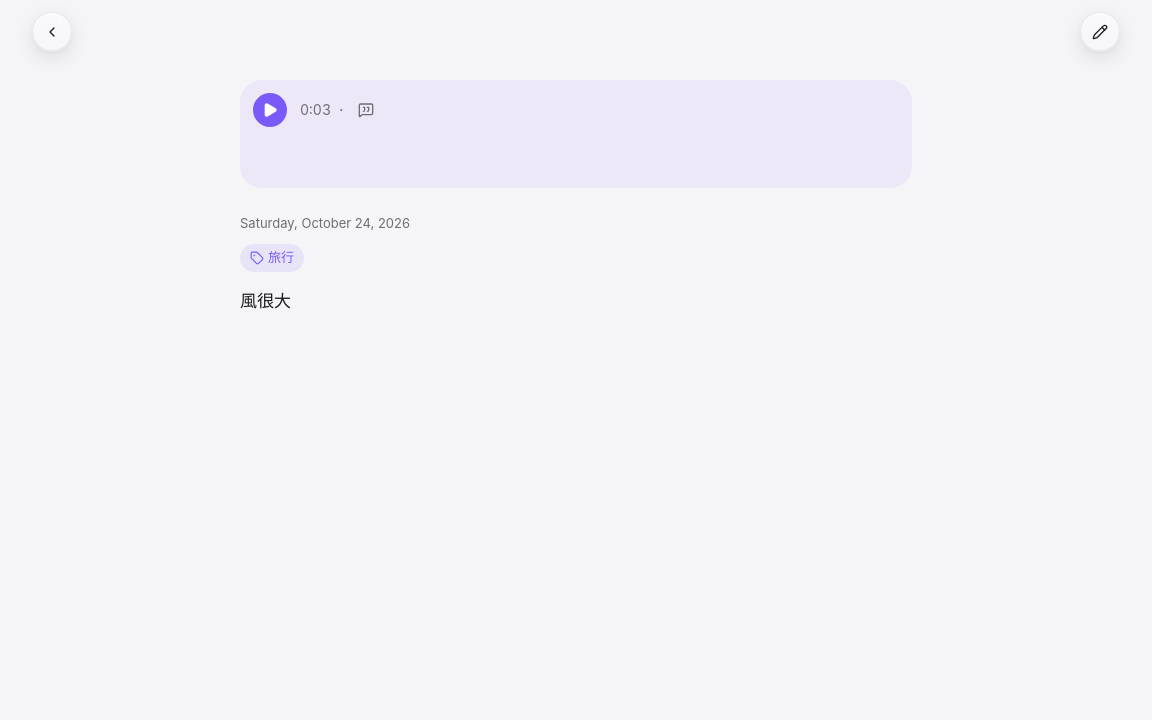
Test: a saved entry opens to read, with nothing to change until Edit
The image size is (1152, 720).
Expected: the text "風很大" is shown, [240, 290, 291, 310]
Expected: the list item "旅行" is shown, [240, 244, 304, 272]
Click the button named "Edit" at (1100, 32), box [1080, 12, 1120, 52]
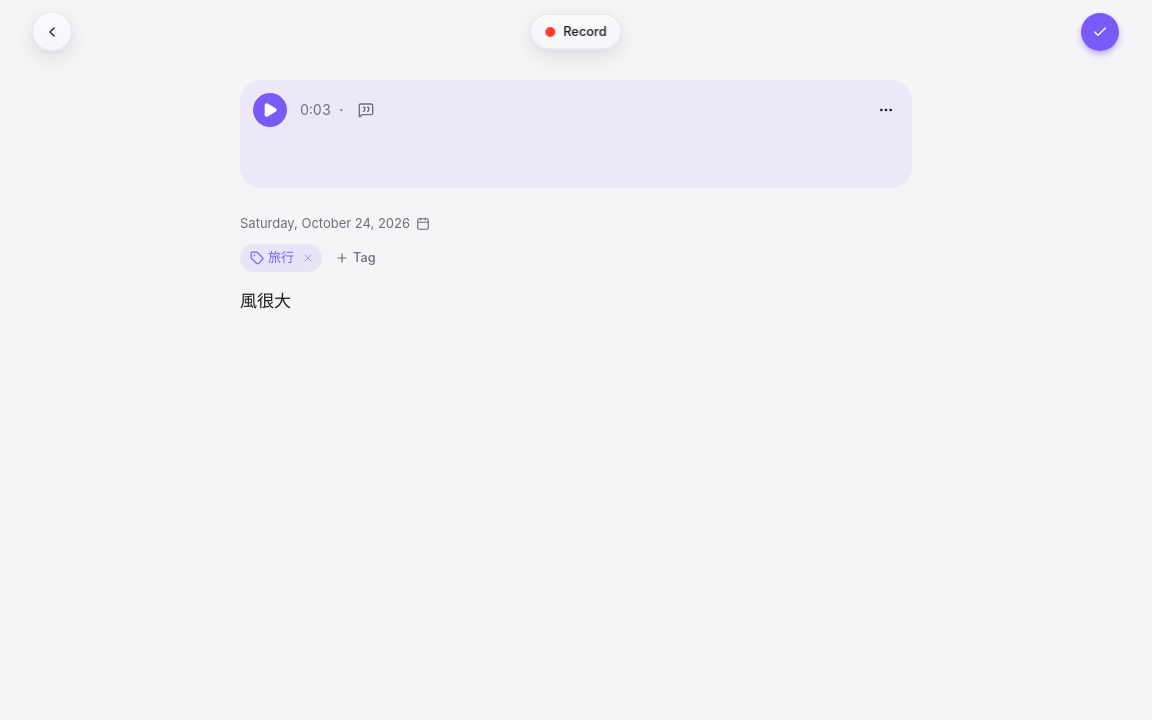
Expected: the text box named "Entry" holds "風很大", [240, 288, 912, 608]
Expected: the button named "Voice note options" is shown, [872, 96, 900, 124]
